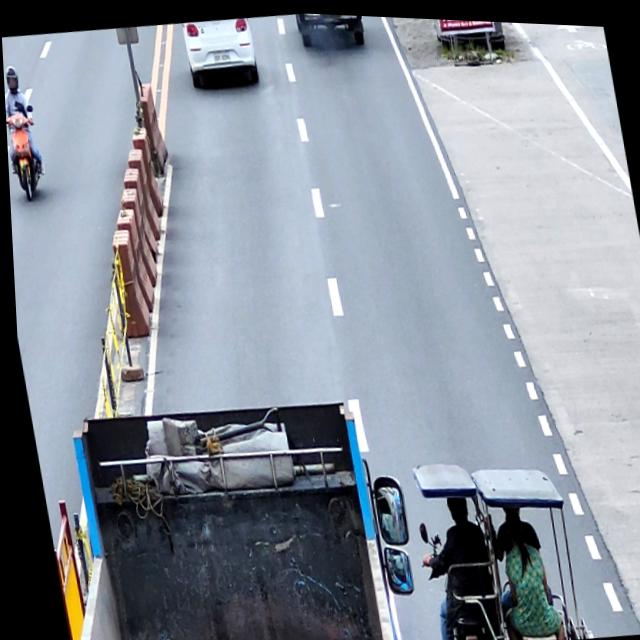Car: (181, 13, 260, 90)
License-Plate: (213, 48, 230, 62)
Motorcycle: (4, 99, 46, 203)
Tricycle: (402, 444, 587, 640)
Truck: (25, 378, 426, 640)
